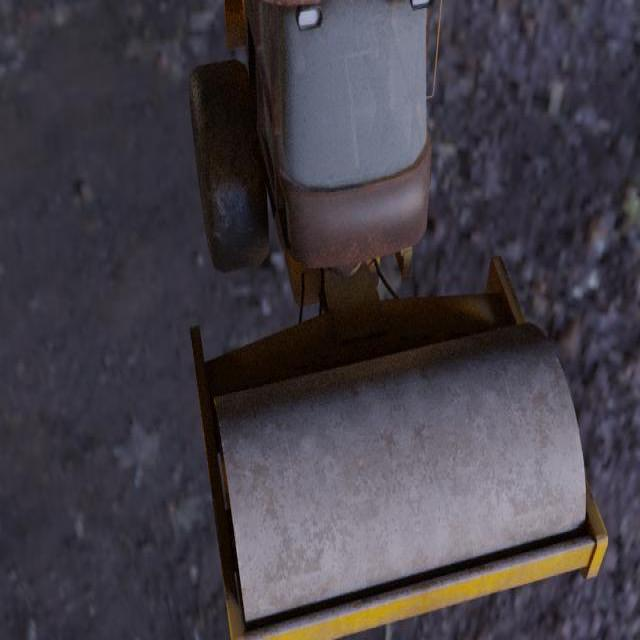Roller: (188, 0, 608, 640)
